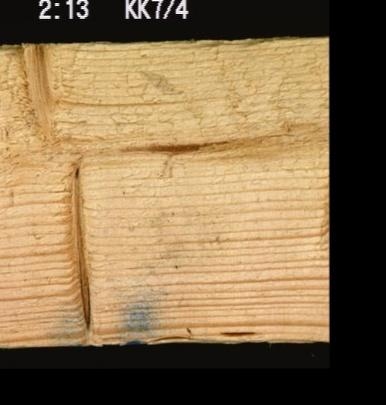split: (247, 118, 326, 142)
